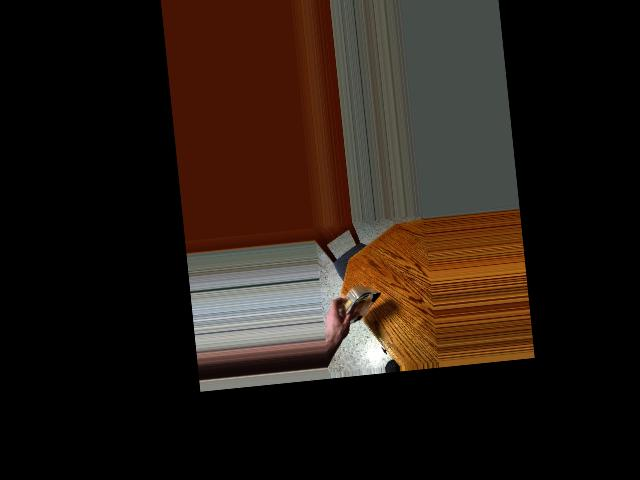cheese: (333, 275, 382, 338)
